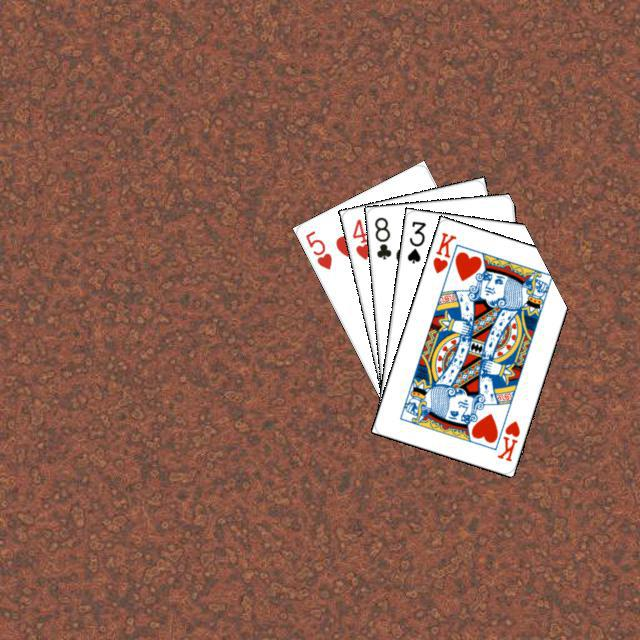3s: (402, 216, 427, 265)
4h: (347, 214, 372, 261)
5h: (300, 225, 334, 271)
8c: (369, 212, 393, 261)
Kh: (428, 227, 461, 282), (492, 416, 522, 463)
